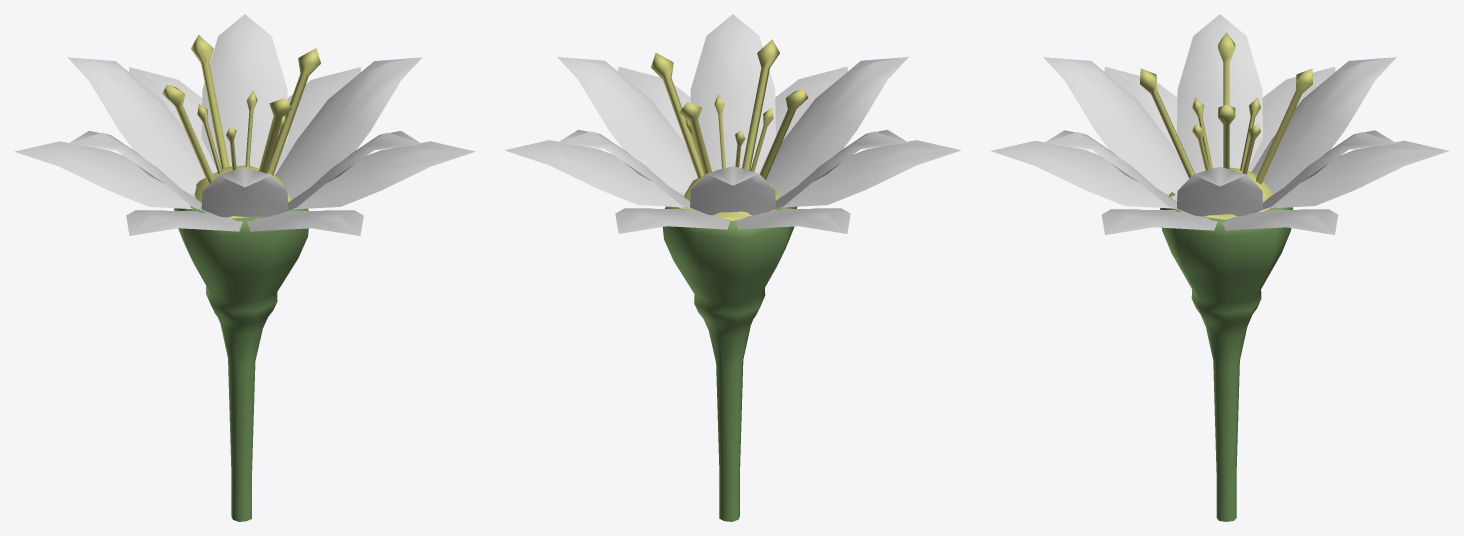
File: MOD_Flower01.fbx
3 renders of one model, left to right at view 1: azimuth 30°, elevation 25°; view 2: azimuth 150°, elevation 25°; view 3: azimuth 270°, elevation 25°, orthographic.
Parts seen in each view (by area): view 1: MOD_Flower01; view 2: MOD_Flower01; view 3: MOD_Flower01.
Part boxes in pixels (bbox=[...]): MOD_Flower01: bbox=[14, 14, 475, 521]; MOD_Flower01: bbox=[505, 14, 960, 521]; MOD_Flower01: bbox=[991, 14, 1448, 521].
Bounding box in the file's own units: 8.41 × 10.21 × 9.47.
